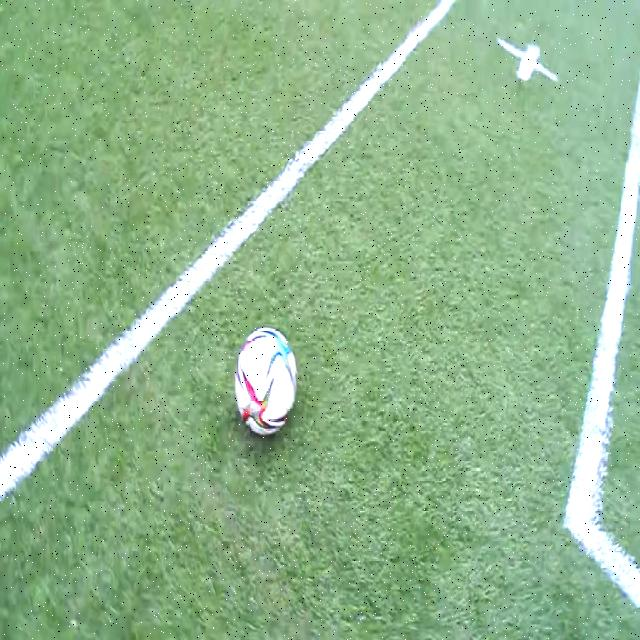ball: (234, 326, 296, 436)
